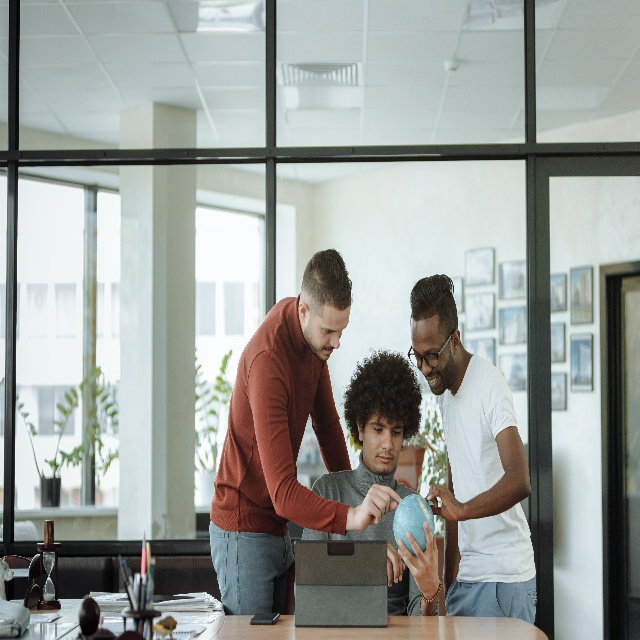Gafas: (407, 334, 454, 367)
Sin_guantes: (397, 519, 441, 599), (355, 482, 402, 531), (423, 481, 464, 524), (385, 539, 406, 588)
